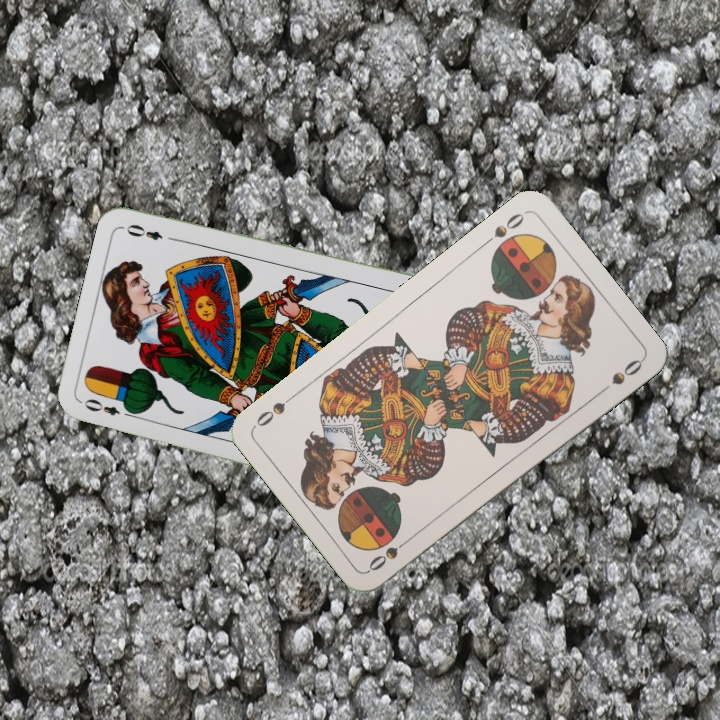EO: (80, 395, 137, 421)
SO: (364, 532, 415, 574), (478, 207, 528, 249)
